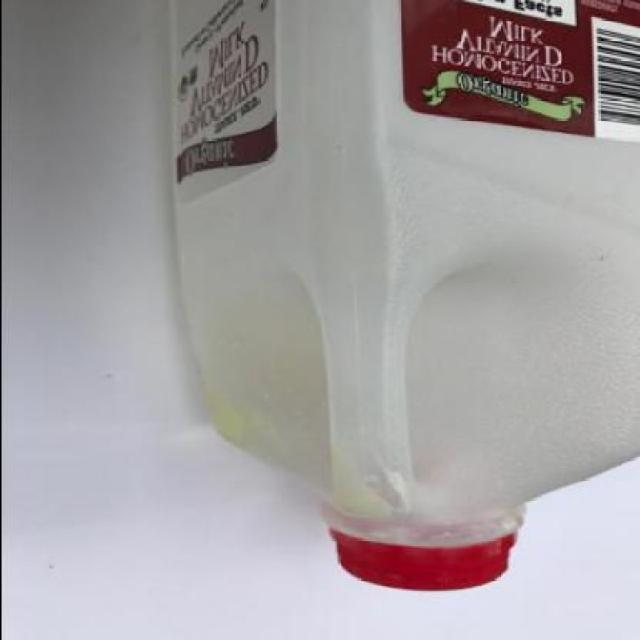PLASTIC: (174, 0, 640, 588), (331, 529, 516, 589)
